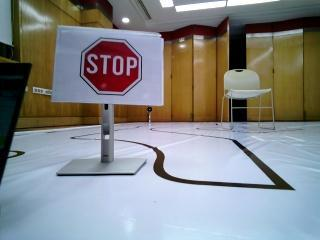stop: (56, 31, 159, 106)
